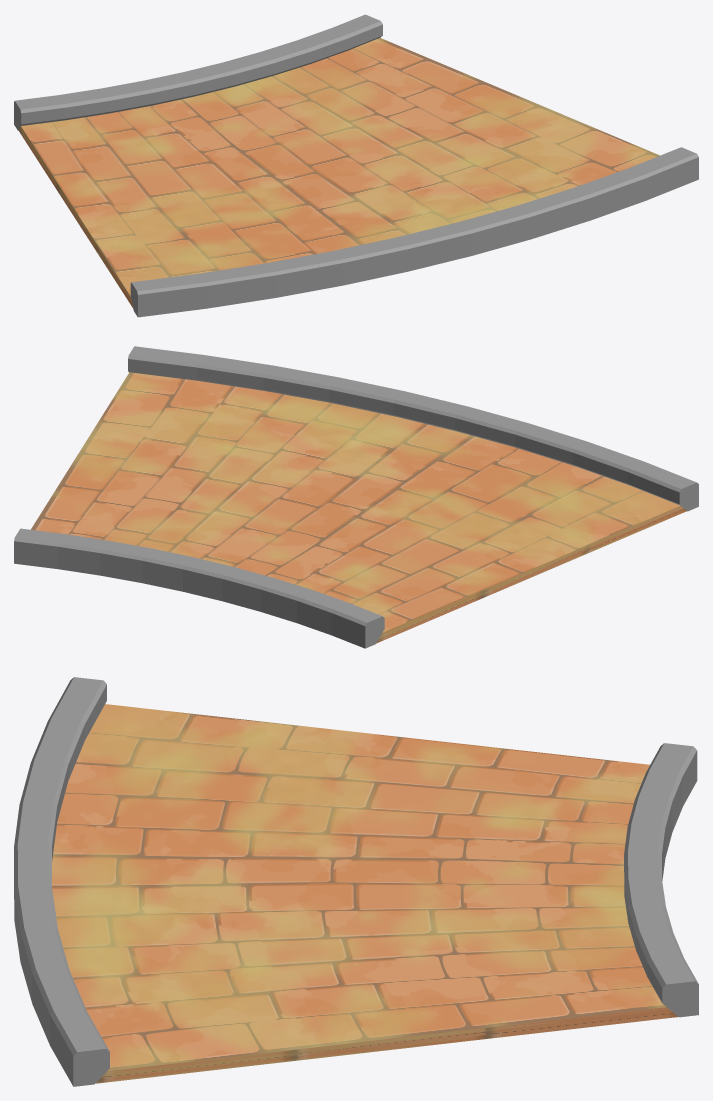
The model's file is Raw30degCurve.fbx.
The picture shows the model from 3 angles, top to bottom: view 1: azimuth 30°, elevation 25°; view 2: azimuth 150°, elevation 25°; view 3: azimuth 270°, elevation 25°; orthographic projection. The views are drawn at different scales.
Parts seen in each view (by area): view 1: Cube.004; view 2: Cube.004; view 3: Cube.004.
Boxes of the visible parts, x1,y1,x2,y2 form: Cube.004: (14, 14, 698, 317); Cube.004: (14, 346, 698, 648); Cube.004: (14, 677, 698, 1086).
Size of the model in its own units: 293 by 12.45 by 225.
